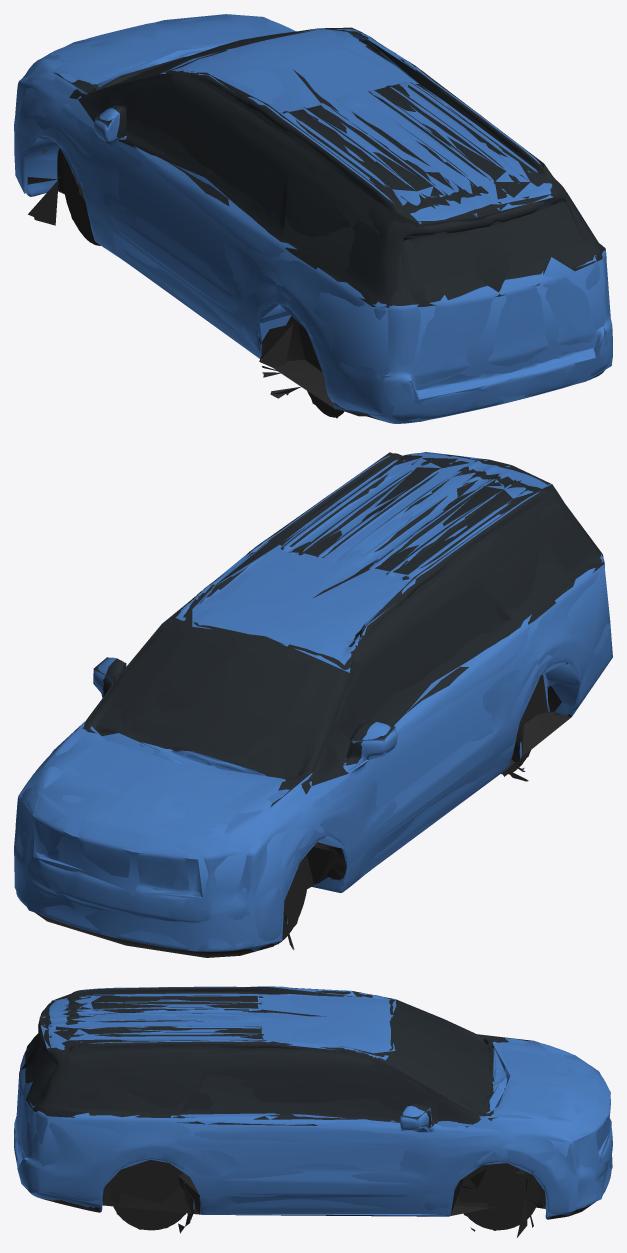
The model's file is kia-carnival.glb.
The picture shows the model from 3 angles, top to bottom: view 1: azimuth 30°, elevation 25°; view 2: azimuth 150°, elevation 25°; view 3: azimuth 270°, elevation 25°; orthographic projection. The views are drawn at different scales.
Parts seen in each view (by area): view 1: body, far; view 2: body, far; view 3: body, far.
Boxes of the visible parts, <box> form: body: <box>14,15,612,423</box>; far: <box>14,14,612,421</box>; body: <box>14,452,611,957</box>; far: <box>14,452,612,951</box>; body: <box>14,986,612,1233</box>; far: <box>14,987,612,1237</box>.
Size of the model in its own units: 2.19 by 1.75 by 5.19.
